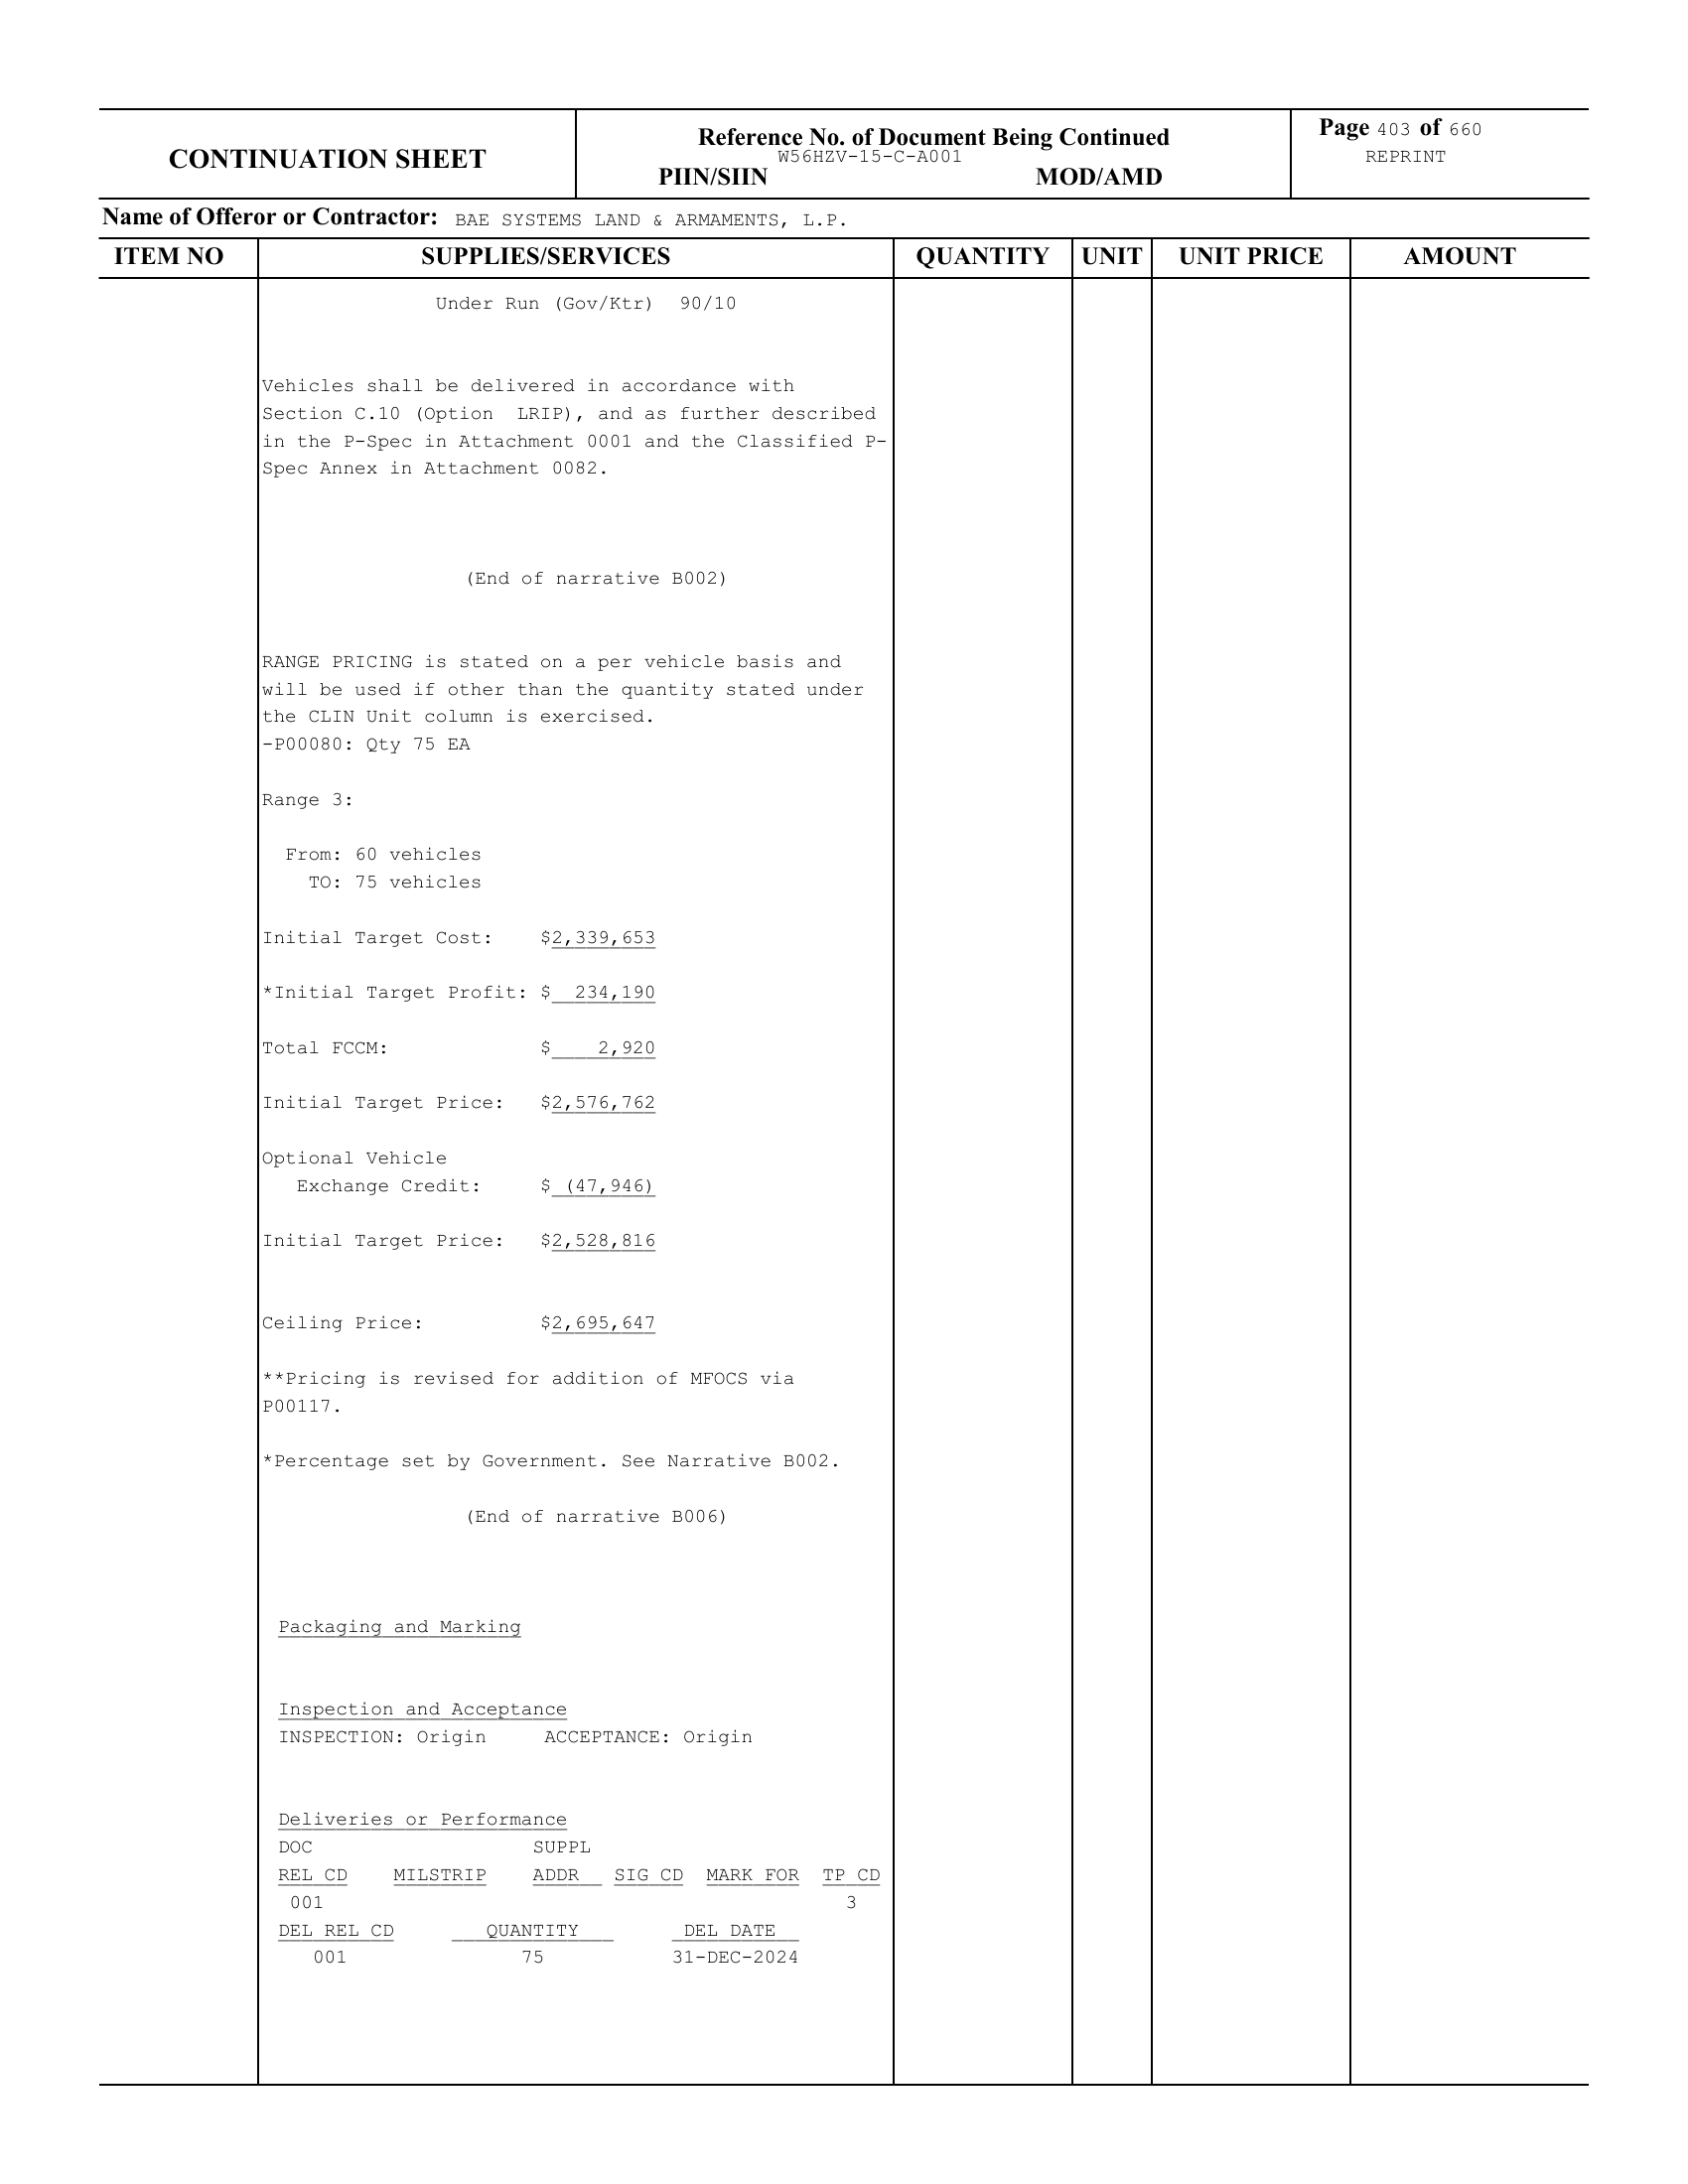table: (89, 236, 1582, 2081)
table column: (255, 238, 890, 2085), (1353, 238, 1582, 2081), (1149, 241, 1346, 2083), (894, 241, 1071, 2083), (92, 238, 257, 2081), (1073, 241, 1149, 2081)
table column header: (94, 238, 1580, 280)
table row: (89, 277, 1582, 2083)
